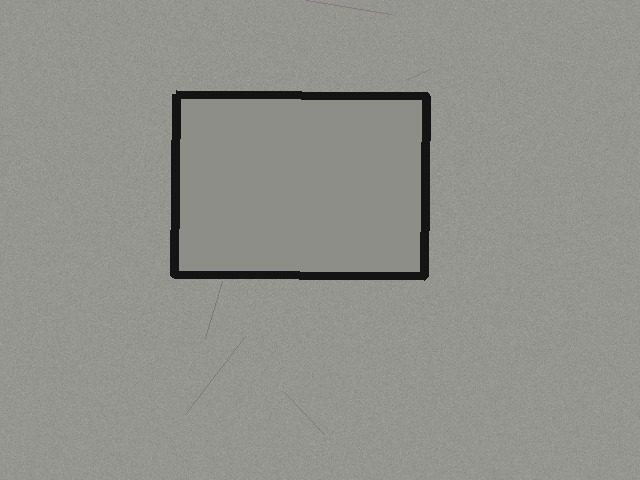parking_area: (174, 94, 426, 276)
